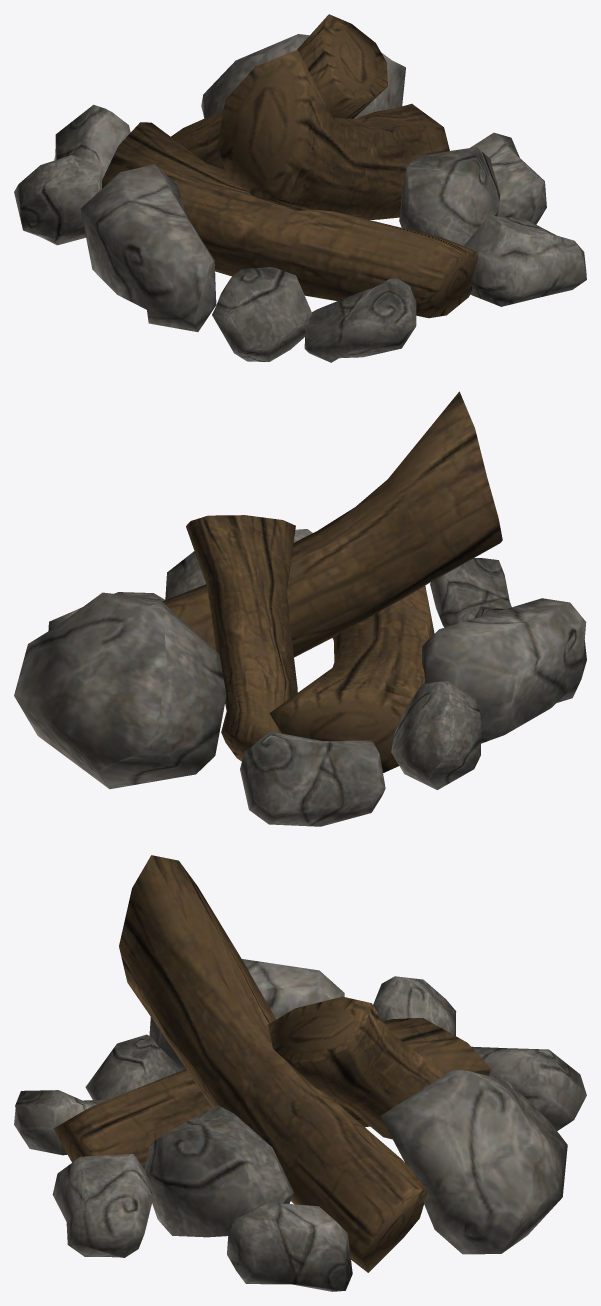
File: firepit.fbx
3 views of the same model, one above another, from view 1: azimuth 30°, elevation 25°; view 2: azimuth 150°, elevation 25°; view 3: azimuth 270°, elevation 25° (orthographic). The views are drawn at different scales.
Visible parts, largest first — view 1: node_id38; view 2: node_id38; view 3: node_id38.
Boxes of the visible parts, left/top/right/bottom form: node_id38: left=14, top=14, right=586, bottom=362; node_id38: left=14, top=391, right=586, bottom=826; node_id38: left=14, top=855, right=586, bottom=1291.
Bounding box in the file's own units: 7.57 × 4.65 × 8.01.
Materials: 1 (1 with a texture image).
